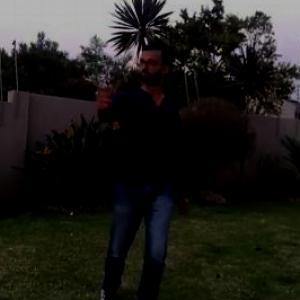takeoff-hand: (85, 78, 120, 115)
